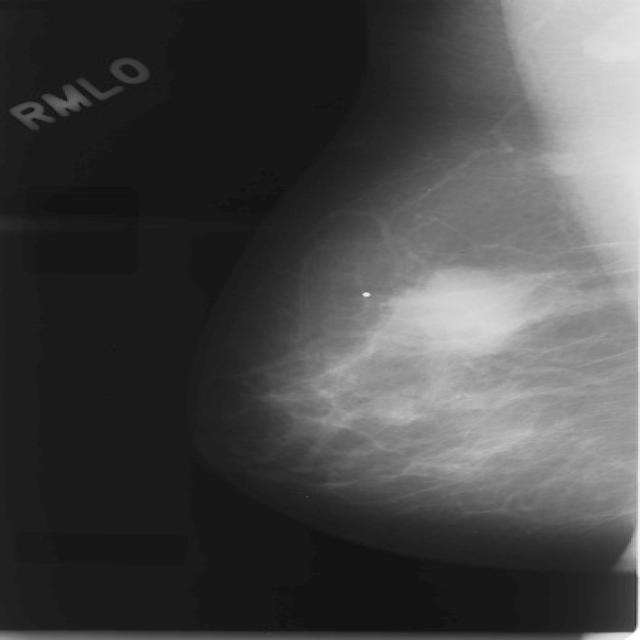tumour: (582, 8, 638, 63)
